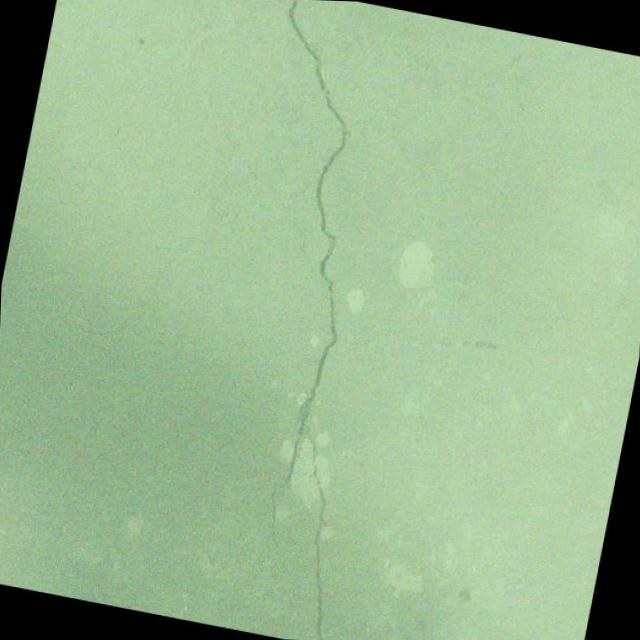crack: (167, 0, 446, 640)
